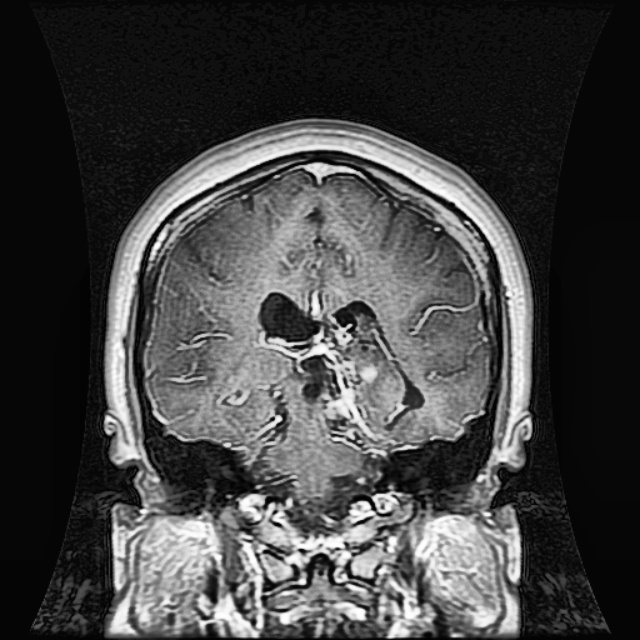Meningioma: (258, 288, 430, 450)
